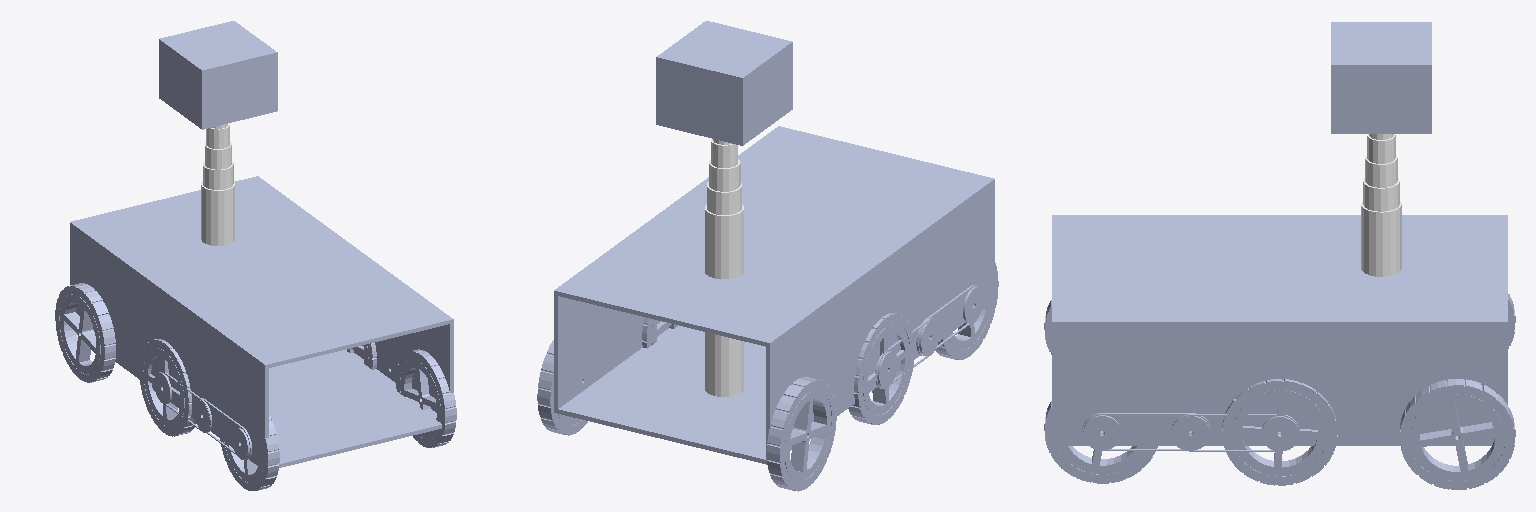
URDF robot description (argos):
<?xml version="1.0" encoding="utf-8"?>
<!-- This URDF was automatically created by SolidWorks to URDF Exporter! Originally created by Stephen Brawner ([email redacted]) 
     Commit Version: 1.6.0-1-g15f4949  Build Version: 1.6.7594.29634
     For more information, please see http://wiki.ros.org/sw_urdf_exporter -->
<robot
  name="argos">
  <link
    name="base_link">
    <inertial>
      <origin
        xyz="-0.037765 0.10355 0.020925"
        rpy="0 0 0" />
      <mass
        value="13.494" />
      <inertia
        ixx="1.0864"
        ixy="2.0039E-16"
        ixz="-4.3603E-16"
        iyy="1.3681"
        iyz="-2.8239E-05"
        izz="0.63282" />
    </inertial>
    <visual>
      <origin
        xyz="0 0 0"
        rpy="0 0 0" />
      <geometry>
        <mesh
          filename="package://argos_description/meshes/base_link.STL" />
      </geometry>
      <material
        name="">
        <color
          rgba="0.79216 0.81961 0.93333 1" />
      </material>
    </visual>
    <collision>
      <origin
        xyz="0 0 0"
        rpy="0 0 0" />
      <geometry>
        <mesh
          filename="package://argos_description/meshes/base_link.STL" />
      </geometry>
    </collision>
  </link>
  <link
    name="right_rear_motor_link">
    <inertial>
      <origin
        xyz="0 -0.0025 0"
        rpy="0 0 0" />
      <mass
        value="0.021697" />
      <inertia
        ixx="7.8085E-06"
        ixy="-1.916E-22"
        ixz="-4.2352E-22"
        iyy="1.5527E-05"
        iyz="-4.623E-22"
        izz="7.8085E-06" />
    </inertial>
    <visual>
      <origin
        xyz="0 0 0"
        rpy="0 0 0" />
      <geometry>
        <mesh
          filename="package://argos_description/meshes/right_rear_motor_link.STL" />
      </geometry>
      <material
        name="">
        <color
          rgba="0.79216 0.81961 0.93333 1" />
      </material>
    </visual>
    <collision>
      <origin
        xyz="0 0 0"
        rpy="0 0 0" />
      <geometry>
        <mesh
          filename="package://argos_description/meshes/right_rear_motor_link.STL" />
      </geometry>
    </collision>
  </link>
  <joint
    name="right_rear_motor_joint"
    type="fixed">
    <origin
      xyz="0.21723 -0.19595 0.00082273"
      rpy="0 -0.3918 1.5708" />
    <parent
      link="base_link" />
    <child
      link="right_rear_motor_link" />
    <axis
      xyz="0 1 0" />
  </joint>
  <link
    name="right_mid_belt_link">
    <inertial>
      <origin
        xyz="0.0874999999999999 0.00225000000000003 1.95156391047391E-18"
        rpy="0 0 0" />
      <mass
        value="0.00667657609484862" />
      <inertia
        ixx="7.98430672469472E-06"
        ixy="2.48154183765907E-22"
        ixz="9.82121574625244E-21"
        iyy="5.2880412606254E-05"
        iyz="5.205910447834E-22"
        izz="4.49186393258794E-05" />
    </inertial>
    <visual>
      <origin
        xyz="0 0 0"
        rpy="0 0 0" />
      <geometry>
        <mesh
          filename="package://argos_description/meshes/right_mid_belt_link.STL" />
      </geometry>
      <material
        name="">
        <color
          rgba="0.792156862745098 0.819607843137255 0.933333333333333 1" />
      </material>
    </visual>
    <collision>
      <origin
        xyz="0 0 0"
        rpy="0 0 0" />
      <geometry>
        <mesh
          filename="package://argos_description/meshes/right_mid_belt_link.STL" />
      </geometry>
    </collision>
  </link>
  <joint
    name="right_mid_belt_joint"
    type="fixed">
    <origin
      xyz="0.16174 -0.0045 -0.066824"
      rpy="-3.1416 -0.3918 -3.1416" />
    <parent
      link="right_rear_motor_link" />
    <child
      link="right_mid_belt_link" />
    <axis
      xyz="0 0 0" />
  </joint>
  <link
    name="right_mid_gear_link">
    <inertial>
      <origin
        xyz="-1.98408997564847E-17 0.002 -2.32452945780892E-16"
        rpy="0 0 0" />
      <mass
        value="0.0216966242638545" />
      <inertia
        ixx="7.80852466996015E-06"
        ixy="5.02080282874028E-22"
        ixz="0"
        iyy="1.55266467388209E-05"
        iyz="1.16710758237386E-35"
        izz="7.80852466996015E-06" />
    </inertial>
    <visual>
      <origin
        xyz="0 0 0"
        rpy="0 0 0" />
      <geometry>
        <mesh
          filename="package://argos_description/meshes/right_mid_gear_link.STL" />
      </geometry>
      <material
        name="">
        <color
          rgba="0.792156862745098 0.819607843137255 0.933333333333333 1" />
      </material>
    </visual>
    <collision>
      <origin
        xyz="0 0 0"
        rpy="0 0 0" />
      <geometry>
        <mesh
          filename="package://argos_description/meshes/right_mid_gear_link.STL" />
      </geometry>
    </collision>
  </link>
  <joint
    name="right_mid_gear_joint"
    type="continuous">
    <origin
      xyz="0 0 0"
      rpy="3.1416 -1.5708 0" />
    <parent
      link="right_mid_belt_link" />
    <child
      link="right_mid_gear_link" />
    <axis
      xyz="0 1 0" />
  </joint>
  <link
    name="right_mid_wheel_link">
    <inertial>
      <origin
        xyz="2.25514051876985E-16 0.0155000000000001 4.20670442924376E-17"
        rpy="0 0 0" />
      <mass
        value="0.820122101622573" />
      <inertia
        ixx="0.00342027097529297"
        ixy="-6.3517102092547E-21"
        ixz="4.60785923306339E-19"
        iyy="0.00671792488217426"
        iyz="-1.81154860439012E-19"
        izz="0.00342027097529297" />
    </inertial>
    <visual>
      <origin
        xyz="0 0 0"
        rpy="0 0 0" />
      <geometry>
        <mesh
          filename="package://argos_description/meshes/right_mid_wheel_link.STL" />
      </geometry>
      <material
        name="">
        <color
          rgba="0.792156862745098 0.819607843137255 0.933333333333333 1" />
      </material>
    </visual>
    <collision>
      <origin
        xyz="0 0 0"
        rpy="0 0 0" />
      <geometry>
        <mesh
          filename="package://argos_description/meshes/right_mid_wheel_link.STL" />
      </geometry>
    </collision>
  </link>
  <joint
    name="right_mid_wheel_joint"
    type="fixed">
    <origin
      xyz="0 0 0"
      rpy="-3.14159265358979 1.51273617278771 0" />
    <parent
      link="right_mid_gear_link" />
    <child
      link="right_mid_wheel_link" />
    <axis
      xyz="0 0 0" />
  </joint>
  <link
    name="right_rear_belt_link">
    <inertial>
      <origin
        xyz="0.0875 0.00274999999999984 3.58870919092702E-17"
        rpy="0 0 0" />
      <mass
        value="0.00667657609484861" />
      <inertia
        ixx="7.98430672469473E-06"
        ixy="-2.82482179186868E-23"
        ixz="1.77221695884145E-20"
        iyy="5.2880412606254E-05"
        iyz="5.94611613790833E-22"
        izz="4.49186393258794E-05" />
    </inertial>
    <visual>
      <origin
        xyz="0 0 0"
        rpy="0 0 0" />
      <geometry>
        <mesh
          filename="package://argos_description/meshes/right_rear_belt_link.STL" />
      </geometry>
      <material
        name="">
        <color
          rgba="0.792156862745098 0.819607843137255 0.933333333333333 1" />
      </material>
    </visual>
    <collision>
      <origin
        xyz="0 0 0"
        rpy="0 0 0" />
      <geometry>
        <mesh
          filename="package://argos_description/meshes/right_rear_belt_link.STL" />
      </geometry>
    </collision>
  </link>
  <joint
    name="right_rear_belt_joint"
    type="fixed">
    <origin
      xyz="0 0 0"
      rpy="-3.1416 -0.3918 -3.1416" />
    <parent
      link="right_rear_motor_link" />
    <child
      link="right_rear_belt_link" />
    <axis
      xyz="0 0 0" />
  </joint>
  <link
    name="right_rear_gear_link">
    <inertial>
      <origin
        xyz="-1.0842021724855E-19 0.00249999999999975 -5.55111512312578E-17"
        rpy="0 0 0" />
      <mass
        value="0.0216966242638545" />
      <inertia
        ixx="7.80852466996015E-06"
        ixy="-5.02080282874028E-22"
        ixz="-3.74939945665465E-41"
        iyy="1.55266467388209E-05"
        iyz="-2.43906422185256E-57"
        izz="7.80852466996015E-06" />
    </inertial>
    <visual>
      <origin
        xyz="0 0 0"
        rpy="0 0 0" />
      <geometry>
        <mesh
          filename="package://argos_description/meshes/right_rear_gear_link.STL" />
      </geometry>
      <material
        name="">
        <color
          rgba="0.792156862745098 0.819607843137255 0.933333333333333 1" />
      </material>
    </visual>
    <collision>
      <origin
        xyz="0 0 0"
        rpy="0 0 0" />
      <geometry>
        <mesh
          filename="package://argos_description/meshes/right_rear_gear_link.STL" />
      </geometry>
    </collision>
  </link>
  <joint
    name="right_rear_gear_joint"
    type="continuous">
    <origin
      xyz="0.175 0 0"
      rpy="3.14159265358979 -1.5707963267949 0" />
    <parent
      link="right_rear_belt_link" />
    <child
      link="right_rear_gear_link" />
    <axis
      xyz="0 1 0" />
  </joint>
  <link
    name="right_rear_wheel_link">
    <inertial>
      <origin
        xyz="0 0.0200000000000001 0"
        rpy="0 0 0" />
      <mass
        value="0.820122101622576" />
      <inertia
        ixx="0.00342027097529298"
        ixy="2.01461140192011E-19"
        ixz="1.24683249835833E-18"
        iyy="0.00671792488217428"
        iyz="4.2187156765204E-20"
        izz="0.00342027097529298" />
    </inertial>
    <visual>
      <origin
        xyz="0 0 0"
        rpy="0 0 0" />
      <geometry>
        <mesh
          filename="package://argos_description/meshes/right_rear_wheel_link.STL" />
      </geometry>
      <material
        name="">
        <color
          rgba="0.792156862745098 0.819607843137255 0.933333333333333 1" />
      </material>
    </visual>
    <collision>
      <origin
        xyz="0 0 0"
        rpy="0 0 0" />
      <geometry>
        <mesh
          filename="package://argos_description/meshes/right_rear_wheel_link.STL" />
      </geometry>
    </collision>
  </link>
  <joint
    name="right_rear_wheel_joint"
    type="continuous">
    <origin
      xyz="0 0 0"
      rpy="3.14159265358979 -0.17799306621387 0" />
    <parent
      link="right_rear_gear_link" />
    <child
      link="right_rear_wheel_link" />
    <axis
      xyz="0 1 0" />
  </joint>
  <link
    name="right_front_wheel_link">
    <inertial>
      <origin
        xyz="0 0.015 -6.93889390390723E-18"
        rpy="0 0 0" />
      <mass
        value="0.820122101622575" />
      <inertia
        ixx="0.00342027097529298"
        ixy="6.74204766962017E-20"
        ixz="-3.25260651745651E-19"
        iyy="0.00671792488217427"
        iyz="-2.84377181797463E-19"
        izz="0.00342027097529298" />
    </inertial>
    <visual>
      <origin
        xyz="0 0 0"
        rpy="0 0 0" />
      <geometry>
        <mesh
          filename="package://argos_description/meshes/right_front_wheel_link.STL" />
      </geometry>
      <material
        name="">
        <color
          rgba="0.792156862745098 0.819607843137255 0.933333333333333 1" />
      </material>
    </visual>
    <collision>
      <origin
        xyz="0 0 0"
        rpy="0 0 0" />
      <geometry>
        <mesh
          filename="package://argos_description/meshes/right_front_wheel_link.STL" />
      </geometry>
    </collision>
  </link>
  <joint
    name="right_front_wheel_joint"
    type="continuous">
    <origin
      xyz="0.21223 0.32905 0.00082273"
      rpy="0 0.1857 -1.5708" />
    <parent
      link="base_link" />
    <child
      link="right_front_wheel_link" />
    <axis
      xyz="0 1 0" />
  </joint>
  <link
    name="left_front_wheel_link">
    <inertial>
      <origin
        xyz="0 0.015 1.3878E-17"
        rpy="0 0 0" />
      <mass
        value="0.82012" />
      <inertia
        ixx="0.0034203"
        ixy="2.4819E-20"
        ixz="5.9631E-19"
        iyy="0.0067179"
        iyz="2.8106E-19"
        izz="0.0034203" />
    </inertial>
    <visual>
      <origin
        xyz="0 0 0"
        rpy="0 0 0" />
      <geometry>
        <mesh
          filename="package://argos_description/meshes/left_front_wheel_link.STL" />
      </geometry>
      <material
        name="">
        <color
          rgba="0.79216 0.81961 0.93333 1" />
      </material>
    </visual>
    <collision>
      <origin
        xyz="0 0 0"
        rpy="0 0 0" />
      <geometry>
        <mesh
          filename="package://argos_description/meshes/left_front_wheel_link.STL" />
      </geometry>
    </collision>
  </link>
  <joint
    name="left_front_wheel_joint"
    type="continuous">
    <origin
      xyz="-0.28777 0.32905 0.00082273"
      rpy="3.1416 0.1857 -1.5708" />
    <parent
      link="base_link" />
    <child
      link="left_front_wheel_link" />
    <axis
      xyz="0 1 0" />
  </joint>
  <link
    name="left_rear_motor_link">
    <inertial>
      <origin
        xyz="-1.3878E-16 -0.0025 -4.1633E-17"
        rpy="0 0 0" />
      <mass
        value="0.021697" />
      <inertia
        ixx="7.8085E-06"
        ixy="-1.5989E-22"
        ixz="-2.1176E-22"
        iyy="1.5527E-05"
        iyz="3.8844E-22"
        izz="7.8085E-06" />
    </inertial>
    <visual>
      <origin
        xyz="0 0 0"
        rpy="0 0 0" />
      <geometry>
        <mesh
          filename="package://argos_description/meshes/left_rear_motor_link.STL" />
      </geometry>
      <material
        name="">
        <color
          rgba="0.79216 0.81961 0.93333 1" />
      </material>
    </visual>
    <collision>
      <origin
        xyz="0 0 0"
        rpy="0 0 0" />
      <geometry>
        <mesh
          filename="package://argos_description/meshes/left_rear_motor_link.STL" />
      </geometry>
    </collision>
  </link>
  <joint
    name="left_rear_motor_joint"
    type="continuous">
    <origin
      xyz="-0.29277 -0.19595 0.00082273"
      rpy="3.1416 -0.3918 1.5708" />
    <parent
      link="base_link" />
    <child
      link="left_rear_motor_link" />
    <axis
      xyz="0 1 0" />
  </joint>
  <link
    name="left_rear_belt_link">
    <inertial>
      <origin
        xyz="0.0875000000000001 -0.00274999999999992 3.58870919092702E-17"
        rpy="0 0 0" />
      <mass
        value="0.00667657609484862" />
      <inertia
        ixx="7.98430672469472E-06"
        ixy="4.99589517294941E-22"
        ixz="9.72402046718597E-21"
        iyy="5.2880412606254E-05"
        iyz="5.258075508177E-22"
        izz="4.49186393258794E-05" />
    </inertial>
    <visual>
      <origin
        xyz="0 0 0"
        rpy="0 0 0" />
      <geometry>
        <mesh
          filename="package://argos_description/meshes/left_rear_belt_link.STL" />
      </geometry>
      <material
        name="">
        <color
          rgba="0.792156862745098 0.819607843137255 0.933333333333333 1" />
      </material>
    </visual>
    <collision>
      <origin
        xyz="0 0 0"
        rpy="0 0 0" />
      <geometry>
        <mesh
          filename="package://argos_description/meshes/left_rear_belt_link.STL" />
      </geometry>
    </collision>
  </link>
  <joint
    name="left_rear_belt_joint"
    type="fixed">
    <origin
      xyz="0 0 0"
      rpy="0 0.3918 3.1416" />
    <parent
      link="left_rear_motor_link" />
    <child
      link="left_rear_belt_link" />
    <axis
      xyz="0 0 0" />
  </joint>
  <link
    name="left_rear_gear_link">
    <inertial>
      <origin
        xyz="2.16840434497101E-19 0.00249999999999995 5.55111512312578E-17"
        rpy="0 0 0" />
      <mass
        value="0.0216966242638545" />
      <inertia
        ixx="7.80852466996015E-06"
        ixy="5.02080282874028E-22"
        ixz="-3.74939945665465E-41"
        iyy="1.55266467388209E-05"
        iyz="2.43906422185256E-57"
        izz="7.80852466996015E-06" />
    </inertial>
    <visual>
      <origin
        xyz="0 0 0"
        rpy="0 0 0" />
      <geometry>
        <mesh
          filename="package://argos_description/meshes/left_rear_gear_link.STL" />
      </geometry>
      <material
        name="">
        <color
          rgba="0.792156862745098 0.819607843137255 0.933333333333333 1" />
      </material>
    </visual>
    <collision>
      <origin
        xyz="0 0 0"
        rpy="0 0 0" />
      <geometry>
        <mesh
          filename="package://argos_description/meshes/left_rear_gear_link.STL" />
      </geometry>
    </collision>
  </link>
  <joint
    name="left_rear_gear_joint"
    type="continuous">
    <origin
      xyz="0.175 0 0"
      rpy="0 -1.5708 0" />
    <parent
      link="left_rear_belt_link" />
    <child
      link="left_rear_gear_link" />
    <axis
      xyz="0 1 0" />
  </joint>
  <link
    name="left_rear_wheel_link">
    <inertial>
      <origin
        xyz="1.38777878078145E-17 0.0200000000000001 0"
        rpy="0 0 0" />
      <mass
        value="0.820122101622576" />
      <inertia
        ixx="0.00342027097529298"
        ixy="-2.79214332337302E-19"
        ixz="0"
        iyy="0.00671792488217428"
        iyz="5.55425286818949E-20"
        izz="0.00342027097529298" />
    </inertial>
    <visual>
      <origin
        xyz="0 0 0"
        rpy="0 0 0" />
      <geometry>
        <mesh
          filename="package://argos_description/meshes/left_rear_wheel_link.STL" />
      </geometry>
      <material
        name="">
        <color
          rgba="0.792156862745098 0.819607843137255 0.933333333333333 1" />
      </material>
    </visual>
    <collision>
      <origin
        xyz="0 0 0"
        rpy="0 0 0" />
      <geometry>
        <mesh
          filename="package://argos_description/meshes/left_rear_wheel_link.STL" />
      </geometry>
    </collision>
  </link>
  <joint
    name="left_rear_wheel_joint"
    type="continuous">
    <origin
      xyz="0 0 0"
      rpy="3.1416 0.17799 0" />
    <parent
      link="left_rear_gear_link" />
    <child
      link="left_rear_wheel_link" />
    <axis
      xyz="0 1 0" />
  </joint>
  <link
    name="left_mid_belt_link">
    <inertial>
      <origin
        xyz="0.0875 -0.00225 -2.5804E-17"
        rpy="0 0 0" />
      <mass
        value="0.0066766" />
      <inertia
        ixx="7.9843E-06"
        ixy="7.1584E-22"
        ixz="5.3445E-21"
        iyy="5.288E-05"
        iyz="6.0574E-22"
        izz="4.4919E-05" />
    </inertial>
    <visual>
      <origin
        xyz="0 0 0"
        rpy="0 0 0" />
      <geometry>
        <mesh
          filename="package://argos_description/meshes/left_mid_belt_link.STL" />
      </geometry>
      <material
        name="">
        <color
          rgba="0.79216 0.81961 0.93333 1" />
      </material>
    </visual>
    <collision>
      <origin
        xyz="0 0 0"
        rpy="0 0 0" />
      <geometry>
        <mesh
          filename="package://argos_description/meshes/left_mid_belt_link.STL" />
      </geometry>
    </collision>
  </link>
  <joint
    name="left_mid_belt_joint"
    type="fixed">
    <origin
      xyz="0.16174 -0.0045 0.066824"
      rpy="0 0.3918 3.1416" />
    <parent
      link="left_rear_motor_link" />
    <child
      link="left_mid_belt_link" />
    <axis
      xyz="0 0 0" />
  </joint>
  <link
    name="left_mid_gear_link">
    <inertial>
      <origin
        xyz="-1.57209315010398E-17 0.002 1.87350135405495E-16"
        rpy="0 0 0" />
      <mass
        value="0.0216966242638545" />
      <inertia
        ixx="7.80852466996015E-06"
        ixy="1.58992089576735E-20"
        ixz="-3.37037740267766E-34"
        iyy="1.55266467388209E-05"
        iyz="-1.76732259571658E-19"
        izz="7.80852466996015E-06" />
    </inertial>
    <visual>
      <origin
        xyz="0 0 0"
        rpy="0 0 0" />
      <geometry>
        <mesh
          filename="package://argos_description/meshes/left_mid_gear_link.STL" />
      </geometry>
      <material
        name="">
        <color
          rgba="0.792156862745098 0.819607843137255 0.933333333333333 1" />
      </material>
    </visual>
    <collision>
      <origin
        xyz="0 0 0"
        rpy="0 0 0" />
      <geometry>
        <mesh
          filename="package://argos_description/meshes/left_mid_gear_link.STL" />
      </geometry>
    </collision>
  </link>
  <joint
    name="left_mid_gear_joint"
    type="continuous">
    <origin
      xyz="0 0 0"
      rpy="0 -1.5708 0" />
    <parent
      link="left_mid_belt_link" />
    <child
      link="left_mid_gear_link" />
    <axis
      xyz="0 1 0" />
  </joint>
  <link
    name="left_mid_wheel_link">
    <inertial>
      <origin
        xyz="2.15105711021124E-16 0.0155 -2.81892564846231E-17"
        rpy="0 0 0" />
      <mass
        value="0.820122101622574" />
      <inertia
        ixx="0.00342027097529297"
        ixy="5.33859423250119E-20"
        ixz="8.13151629364128E-20"
        iyy="0.00671792488217427"
        iyz="2.05696505401071E-19"
        izz="0.00342027097529297" />
    </inertial>
    <visual>
      <origin
        xyz="0 0 0"
        rpy="0 0 0" />
      <geometry>
        <mesh
          filename="package://argos_description/meshes/left_mid_wheel_link.STL" />
      </geometry>
      <material
        name="">
        <color
          rgba="0.792156862745098 0.819607843137255 0.933333333333333 1" />
      </material>
    </visual>
    <collision>
      <origin
        xyz="0 0 0"
        rpy="0 0 0" />
      <geometry>
        <mesh
          filename="package://argos_description/meshes/left_mid_wheel_link.STL" />
      </geometry>
    </collision>
  </link>
  <joint
    name="left_mid_wheel_joint"
    type="continuous">
    <origin
      xyz="0 0 0"
      rpy="3.1416 -1.5127 0" />
    <parent
      link="left_mid_gear_link" />
    <child
      link="left_mid_wheel_link" />
    <axis
      xyz="0 1 0" />
  </joint>
  <link
    name="mast_link">
    <inertial>
      <origin
        xyz="0 0 0"
        rpy="0 0 0" />
      <mass
        value="0" />
      <inertia
        ixx="0"
        ixy="0"
        ixz="0"
        iyy="0"
        iyz="0"
        izz="0" />
    </inertial>
    <visual>
      <origin
        xyz="0 0 0"
        rpy="0 0 0" />
      <geometry>
        <mesh
          filename="package://argos_description/meshes/mast_link.STL" />
      </geometry>
      <material
        name="">
        <color
          rgba="1 1 1 1" />
      </material>
    </visual>
    <collision>
      <origin
        xyz="0 0 0"
        rpy="0 0 0" />
      <geometry>
        <mesh
          filename="package://argos_description/meshes/mast_link.STL" />
      </geometry>
    </collision>
  </link>
  <joint
    name="mast_joint"
    type="fixed">
    <origin
      xyz="-0.037765 0.17905 -0.021497"
      rpy="1.5708 0 0" />
    <parent
      link="base_link" />
    <child
      link="mast_link" />
    <axis
      xyz="0 0 0" />
  </joint>
  <link
    name="camera_link">
    <inertial>
      <origin
        xyz="0 0.075 2.77555756156289E-17"
        rpy="0 0 0" />
      <mass
        value="6" />
      <inertia
        ixx="0.03125"
        ixy="-7.22801448323669E-19"
        ixz="-1.09865820145197E-19"
        iyy="0.04"
        iyz="-5.42101086242748E-19"
        izz="0.03125" />
    </inertial>
    <visual>
      <origin
        xyz="0 0 0"
        rpy="0 0 0" />
      <geometry>
        <mesh
          filename="package://argos_description/meshes/camera_link.STL" />
      </geometry>
      <material
        name="">
        <color
          rgba="0.792156862745098 0.819607843137255 0.933333333333333 1" />
      </material>
    </visual>
    <collision>
      <origin
        xyz="0 0 0"
        rpy="0 0 0" />
      <geometry>
        <mesh
          filename="package://argos_description/meshes/camera_link.STL" />
      </geometry>
    </collision>
  </link>
  <joint
    name="camera_joint"
    type="fixed">
    <origin
      xyz="0 0.6 0"
      rpy="0 0 0" />
    <parent
      link="mast_link" />
    <child
      link="camera_link" />
    <axis
      xyz="0 0 0" />
  </joint>
</robot>

--- What the picture shows (computed from the rendered views, not written in the file) ---
The picture shows the robot from 3 angles, left to right: view 1: azimuth 30°, elevation 25°; view 2: azimuth 150°, elevation 25°; view 3: azimuth 270°, elevation 25°; orthographic projection.
Model argos with 19 links and 18 joints (10 continuous, 8 fixed), rooted at base_link, posed every joint at zero.
Visible links, largest first — view 1: base_link, camera_link, left_front_wheel_link, mast_link, right_rear_wheel_link, left_mid_wheel_link, left_rear_wheel_link; view 2: base_link, camera_link, mast_link, left_front_wheel_link, left_mid_wheel_link, left_rear_wheel_link, right_front_wheel_link, left_rear_gear_link, left_mid_gear_link, left_rear_motor_link, right_mid_wheel_link; view 3: base_link, camera_link, right_front_wheel_link, right_mid_wheel_link, mast_link, right_rear_wheel_link, right_mid_gear_link, right_rear_gear_link, right_rear_motor_link.
Boxes of the visible links, x1=… form: base_link: x1=70, y1=176, x2=453, y2=467; camera_link: x1=159, y1=21, x2=277, y2=129; left_front_wheel_link: x1=55, y1=283, x2=115, y2=382; mast_link: x1=201, y1=123, x2=234, y2=245; right_rear_wheel_link: x1=396, y1=349, x2=456, y2=447; left_mid_wheel_link: x1=139, y1=339, x2=196, y2=436; left_rear_wheel_link: x1=219, y1=394, x2=279, y2=490; base_link: x1=554, y1=126, x2=994, y2=464; camera_link: x1=656, y1=21, x2=792, y2=145; mast_link: x1=705, y1=138, x2=743, y2=396; left_front_wheel_link: x1=767, y1=377, x2=836, y2=491; left_mid_wheel_link: x1=848, y1=313, x2=914, y2=424; left_rear_wheel_link: x1=935, y1=249, x2=998, y2=359; right_front_wheel_link: x1=537, y1=340, x2=587, y2=435; left_rear_gear_link: x1=963, y1=287, x2=983, y2=323; left_mid_gear_link: x1=877, y1=351, x2=897, y2=387; left_rear_motor_link: x1=919, y1=319, x2=939, y2=355; right_mid_wheel_link: x1=642, y1=317, x2=677, y2=348; base_link: x1=1052, y1=215, x2=1507, y2=445; camera_link: x1=1331, y1=22, x2=1431, y2=133; right_front_wheel_link: x1=1400, y1=379, x2=1515, y2=489; right_mid_wheel_link: x1=1222, y1=379, x2=1337, y2=485; mast_link: x1=1361, y1=134, x2=1401, y2=276; right_rear_wheel_link: x1=1044, y1=401, x2=1157, y2=483; right_mid_gear_link: x1=1261, y1=416, x2=1298, y2=451; right_rear_gear_link: x1=1083, y1=415, x2=1120, y2=450; right_rear_motor_link: x1=1172, y1=416, x2=1209, y2=450.
Size in the robot's own frame: 0.56 by 0.9285 by 0.842 metres.
Meshes: 19 distinct files referenced, 19 mesh visuals loaded (19 binary STL).
